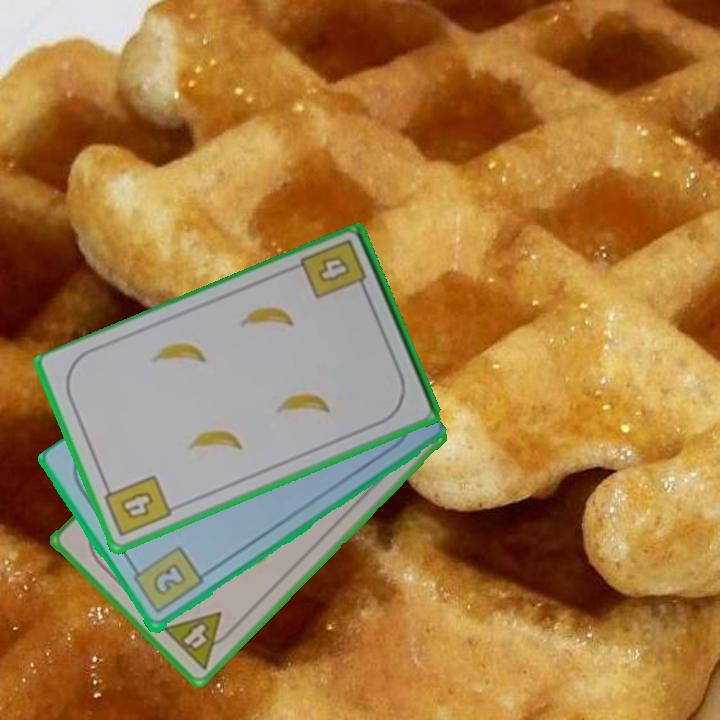2b: (127, 543, 206, 617)
4b: (99, 471, 175, 540), (297, 236, 371, 303)
4p: (158, 608, 239, 673)
